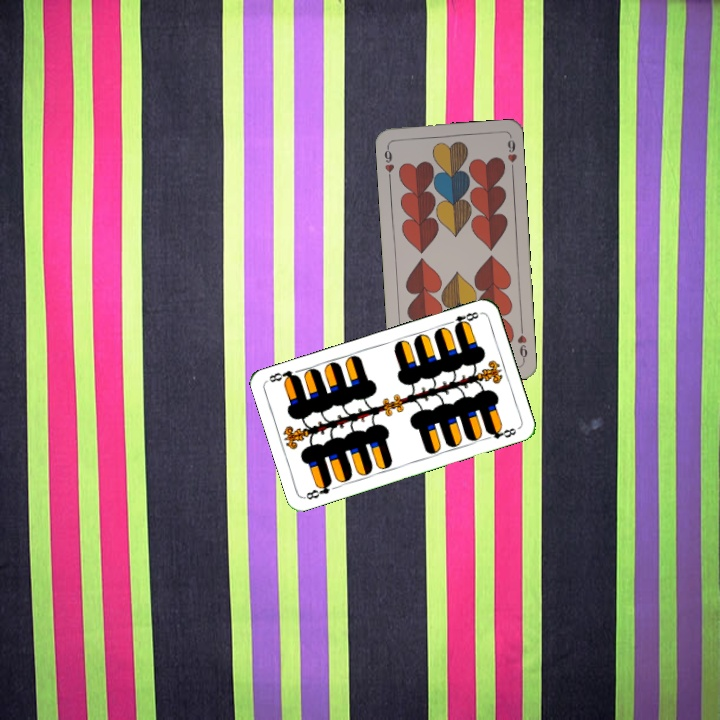E8: (443, 308, 481, 331), (301, 477, 335, 502)
H9: (513, 322, 530, 363), (380, 141, 397, 182)
